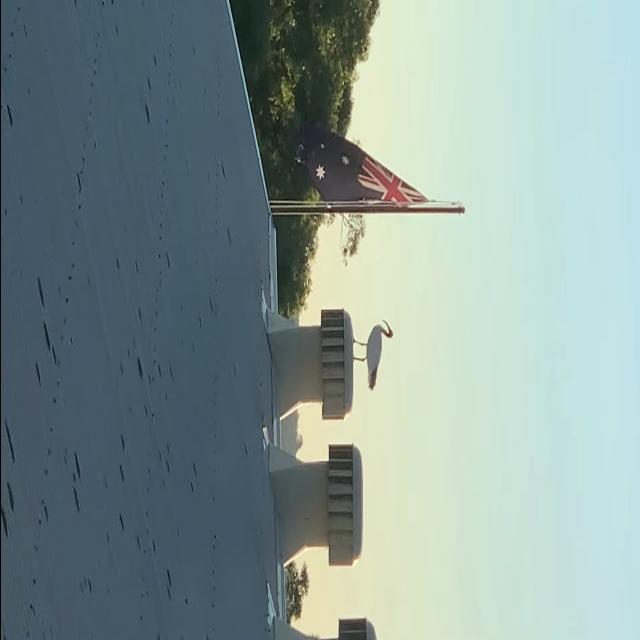Birds-Ibis: (349, 316, 394, 392)
